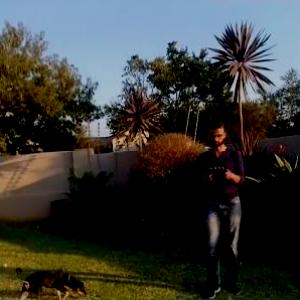follow: (195, 116, 250, 299)
null: (12, 266, 90, 299)
